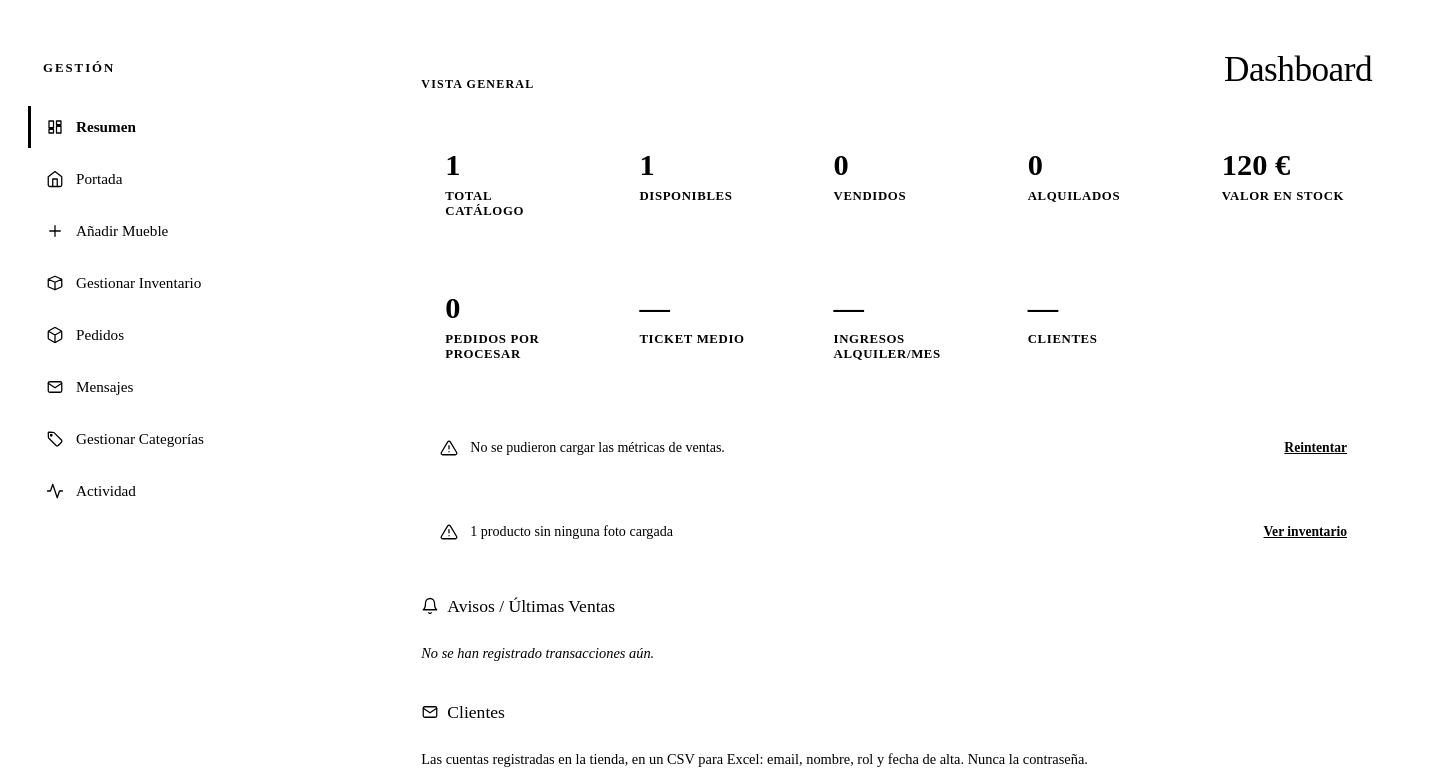
Test: Inventario — importar catálogo (CSV) › la X cierra el modal sin importar nada
Click the button "Gestionar Inventario": [185, 283] box [28,262,341,304]
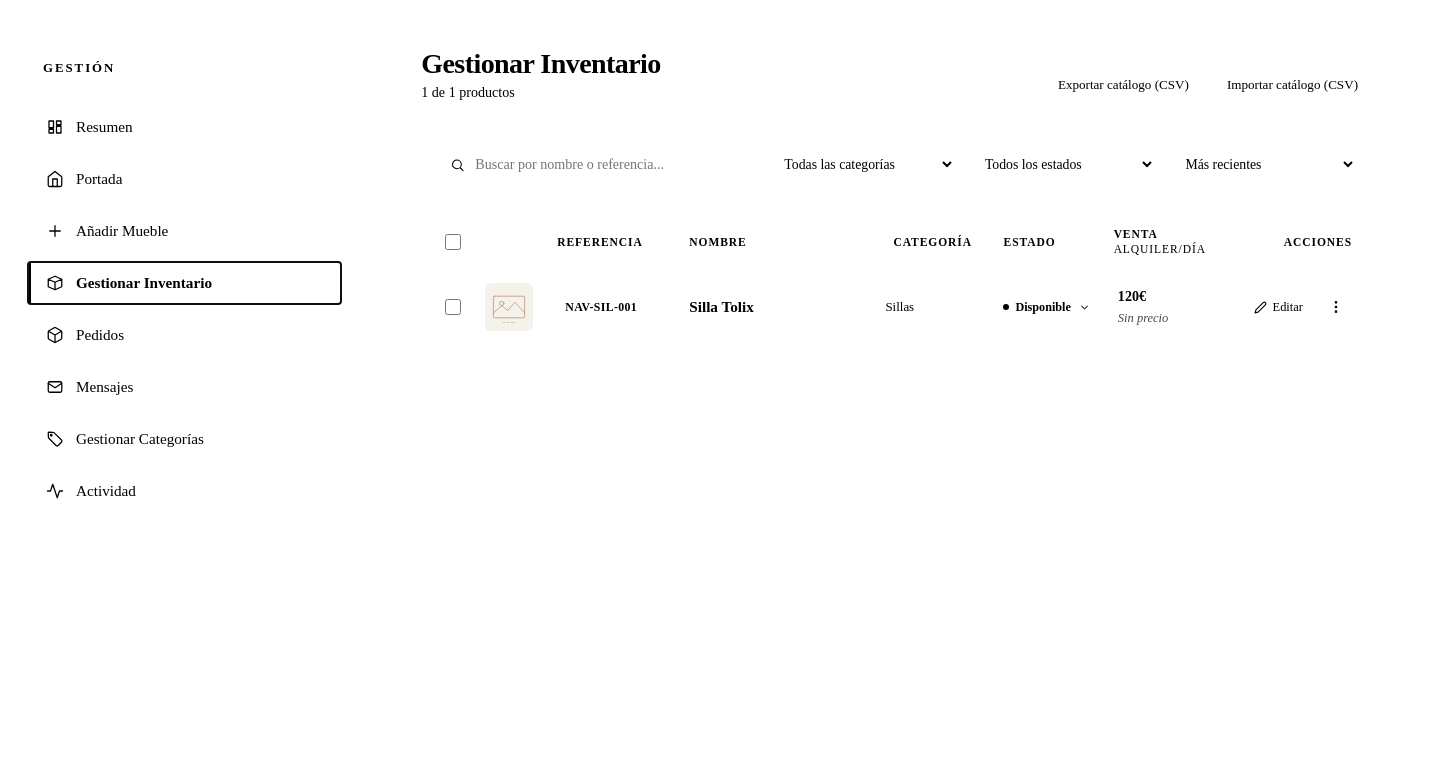
Click the button "Importar catálogo (CSV)": [1292, 85] box [1213,69,1372,101]
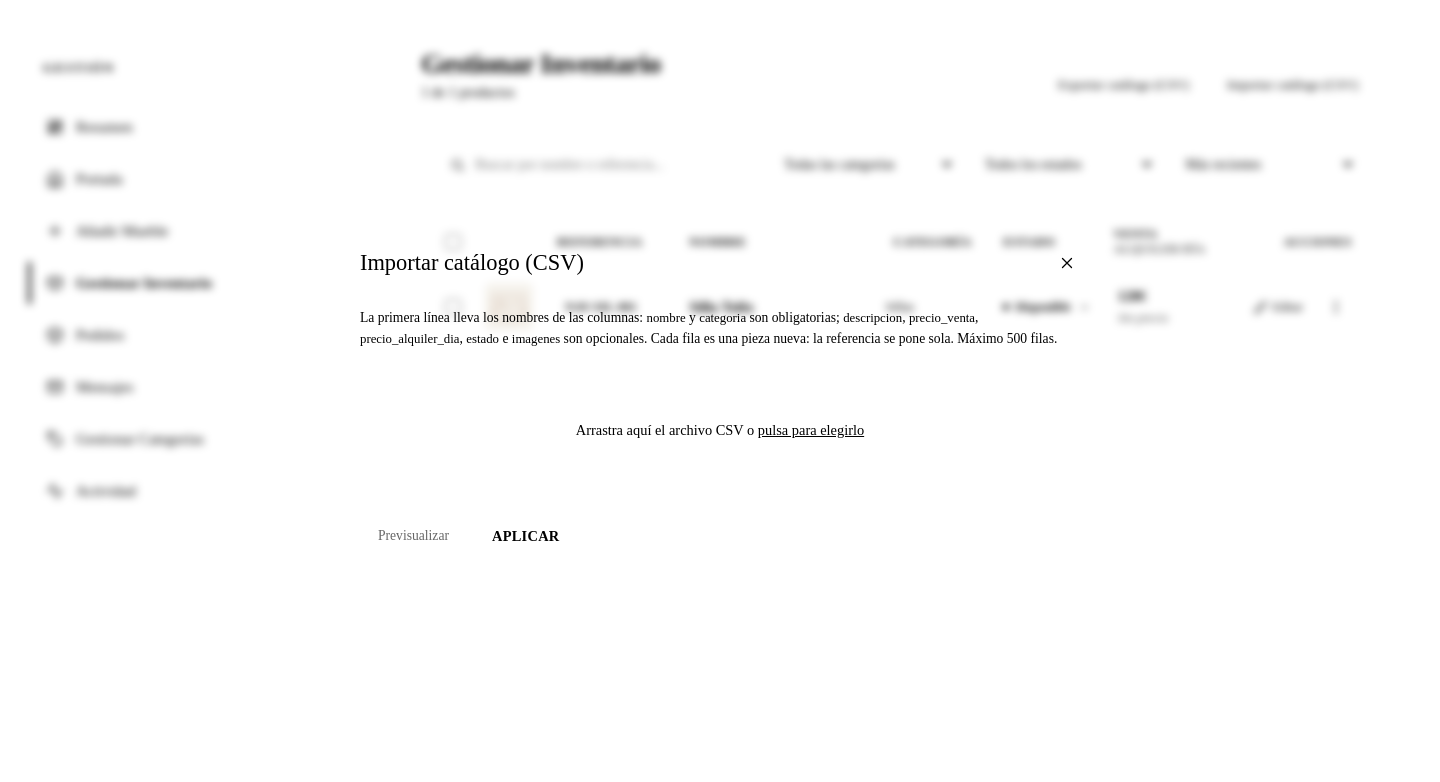
Click the button named "Cerrar": [1067, 263] box [1054,250,1080,276]
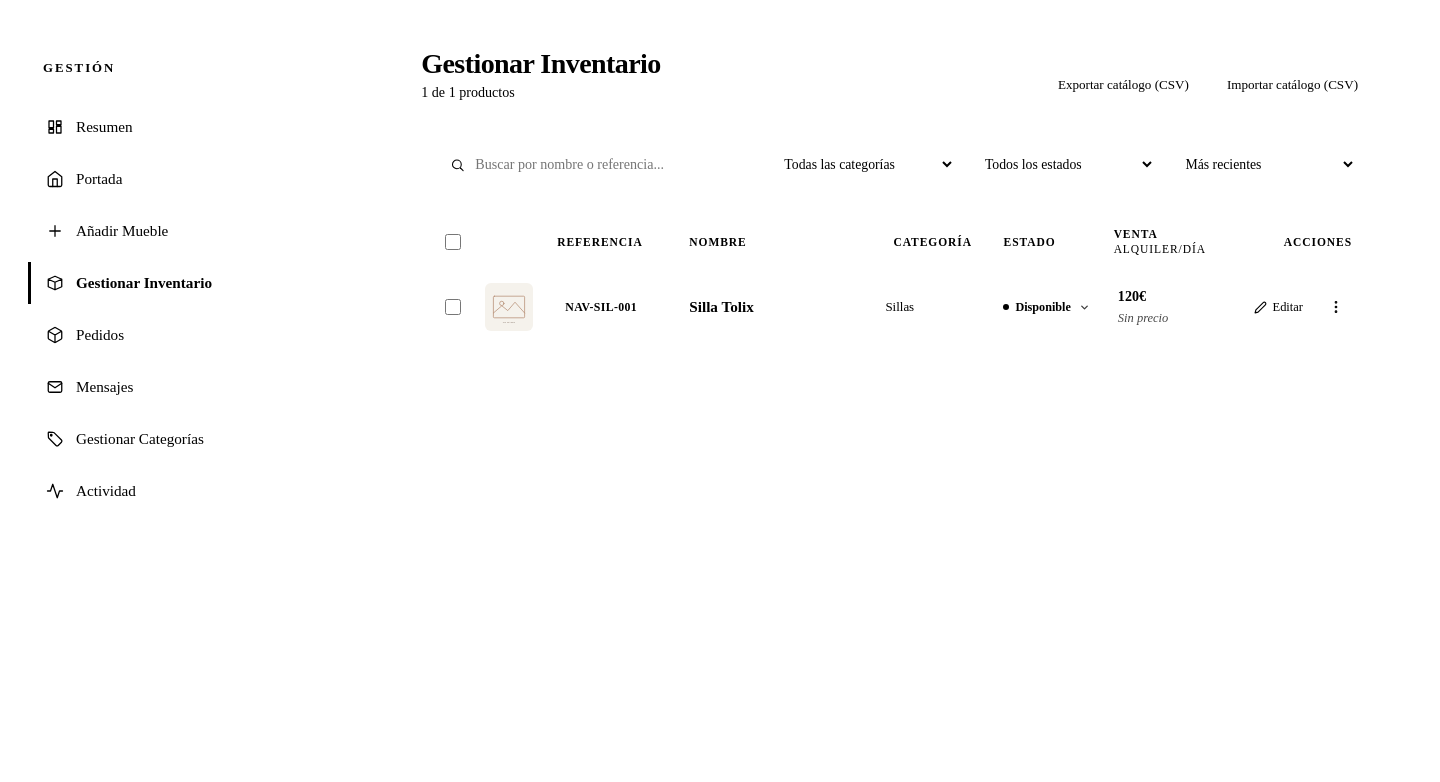
expect the dialog is gone: met
